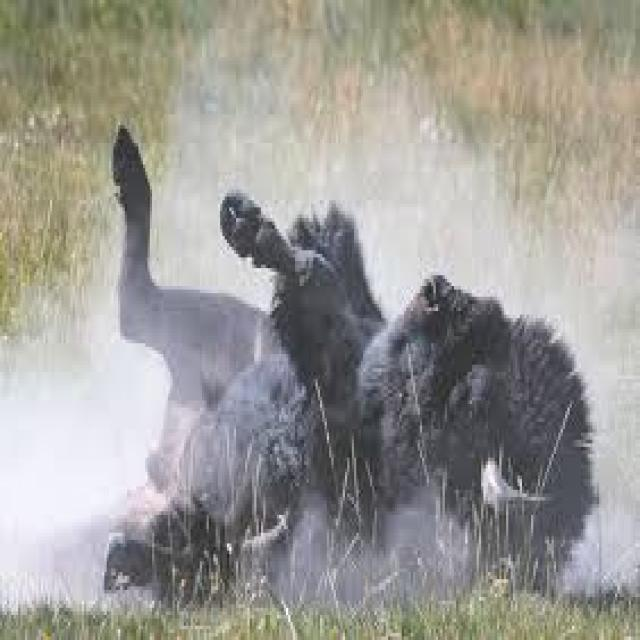Bison: (90, 112, 594, 640)
